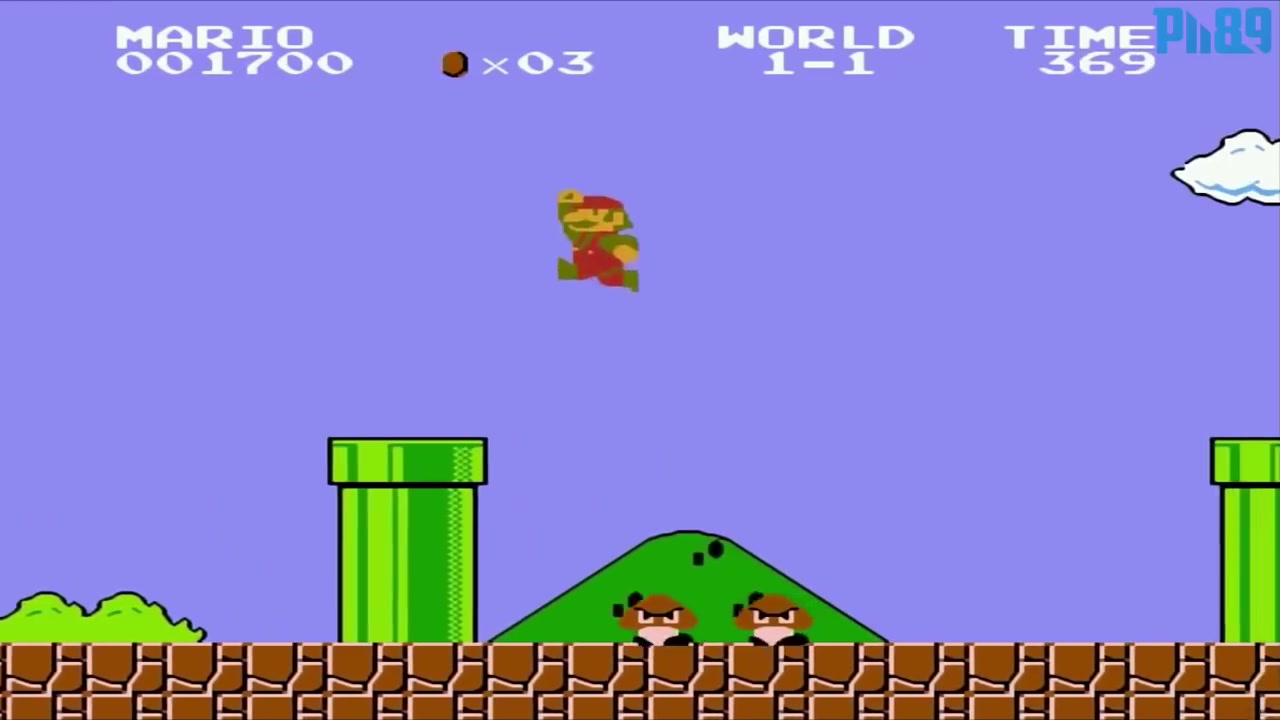mario: (544, 178, 644, 297)
